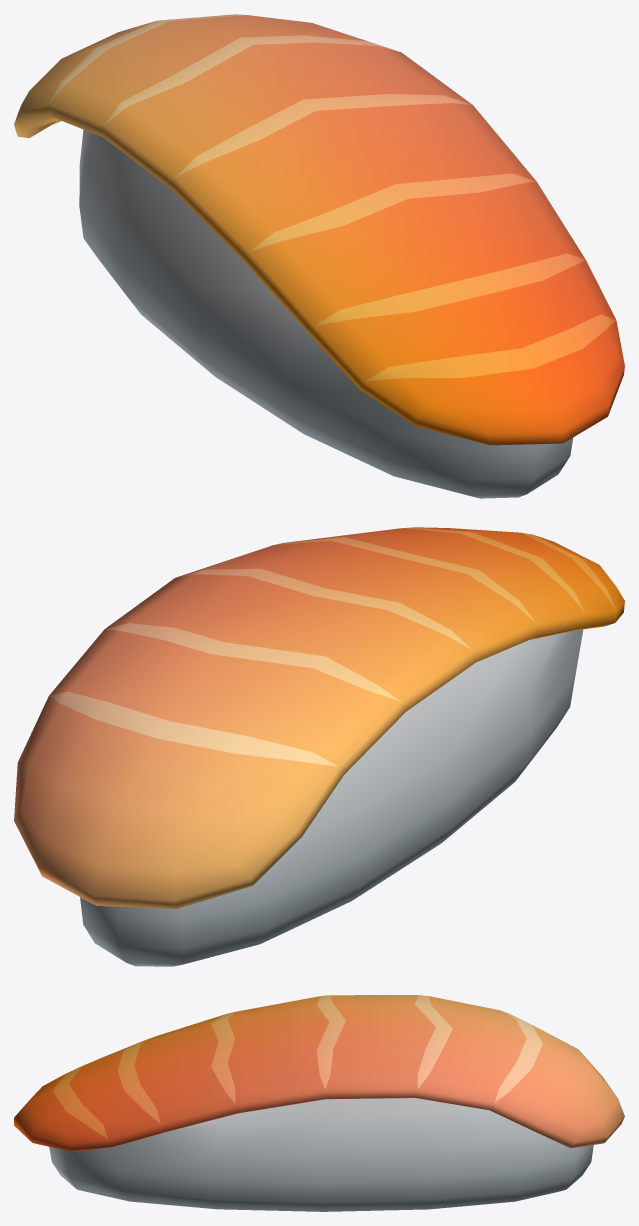
File: sushi_001.fbx
3 renders of one model, top to bottom at view 1: azimuth 30°, elevation 25°; view 2: azimuth 150°, elevation 25°; view 3: azimuth 270°, elevation 25°, orthographic. The views are drawn at different scales.
Parts seen in each view (by area): view 1: sushi_001; view 2: sushi_001; view 3: sushi_001.
Boxes of the visible parts, x1,y1,x2,y2 form: sushi_001: (14,14,624,498); sushi_001: (14,527,624,966); sushi_001: (14,995,624,1211).
Size of the model in its own units: 3.48 by 9.29 by 2.75.
